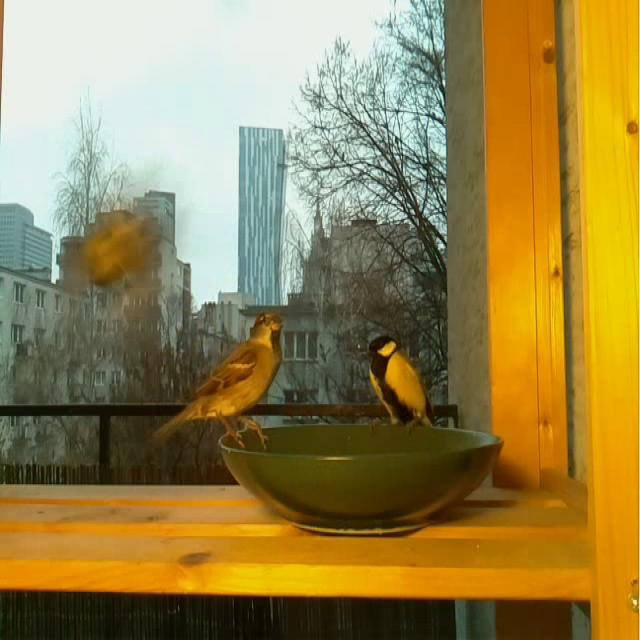Bogatka: (363, 332, 441, 436)
Wrobel: (149, 311, 287, 453)
